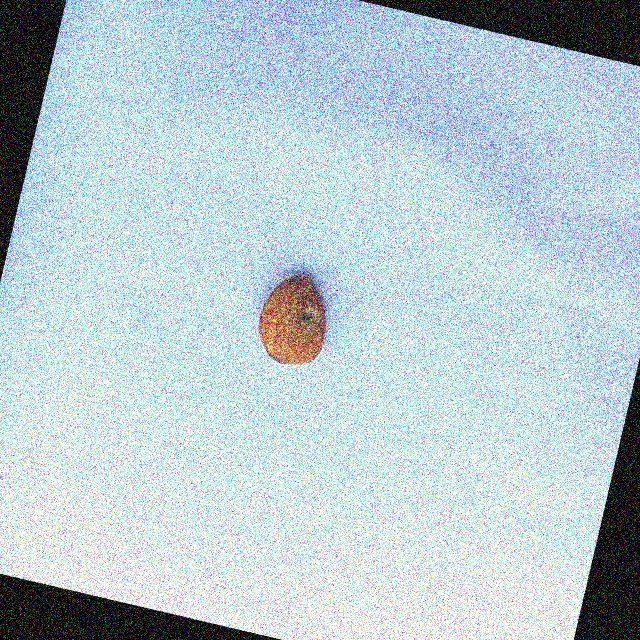grade3: (248, 264, 343, 377)
